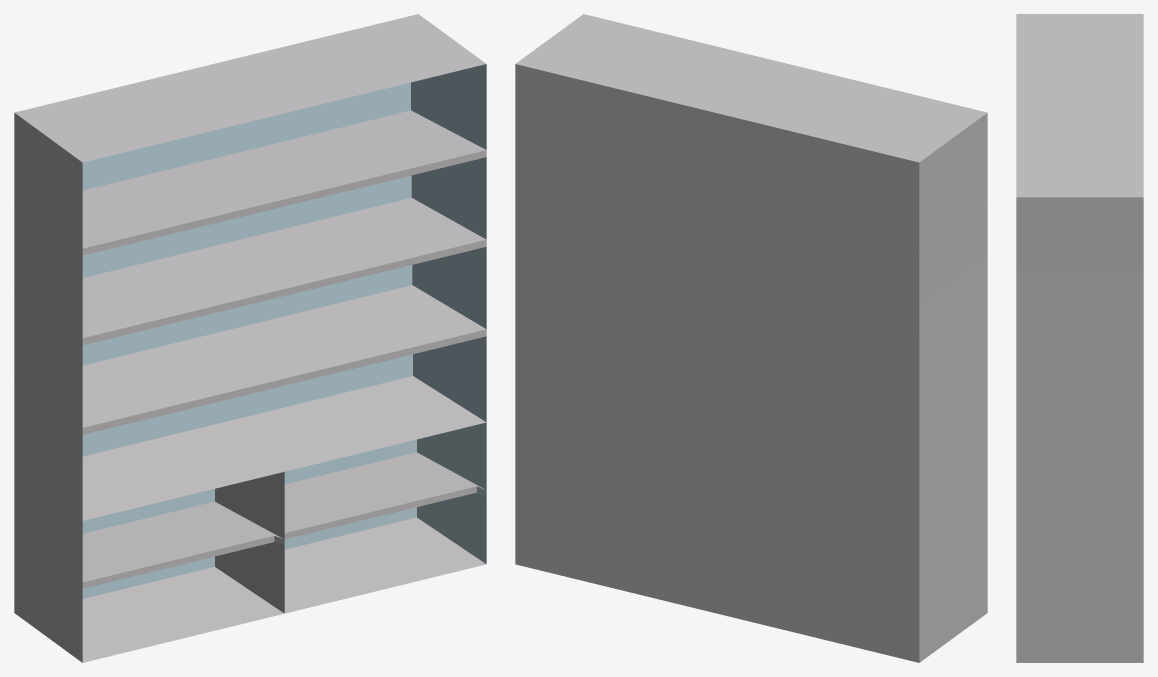
File: cabin.fbx
3 views of the same model, side by side, from view 1: azimuth 30°, elevation 25°; view 2: azimuth 150°, elevation 25°; view 3: azimuth 270°, elevation 25° (orthographic). The views are drawn at different scales.
Parts seen in each view (by area): view 1: cabin; view 2: cabin; view 3: cabin.
Boxes of the visible parts, x1,y1,x2,y2 form: cabin: (14,14,486,662); cabin: (515,14,987,662); cabin: (1016,14,1143,662).
Size of the model in its own units: 7651 by 9054 by 2240.
